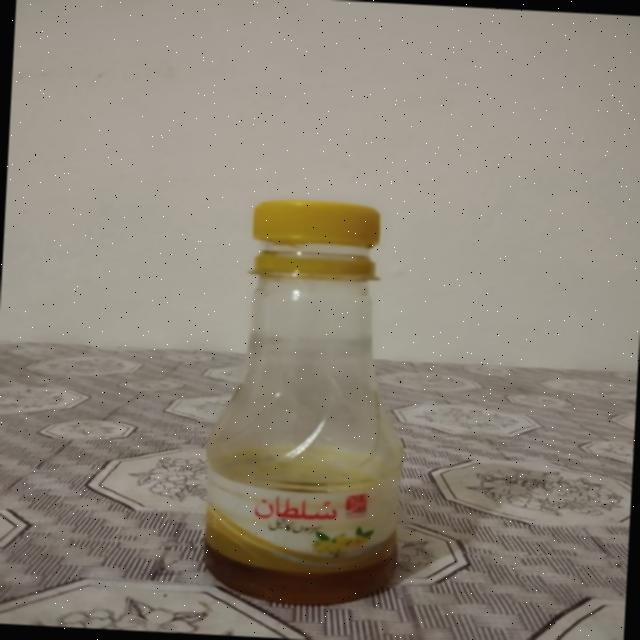bottle: (175, 183, 442, 614)
cap: (234, 186, 390, 294)
label: (183, 451, 413, 591)
